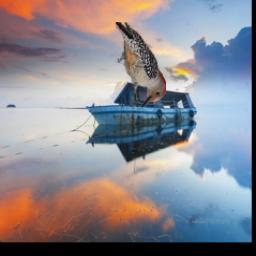Woodpecker: (117, 23, 167, 108)
